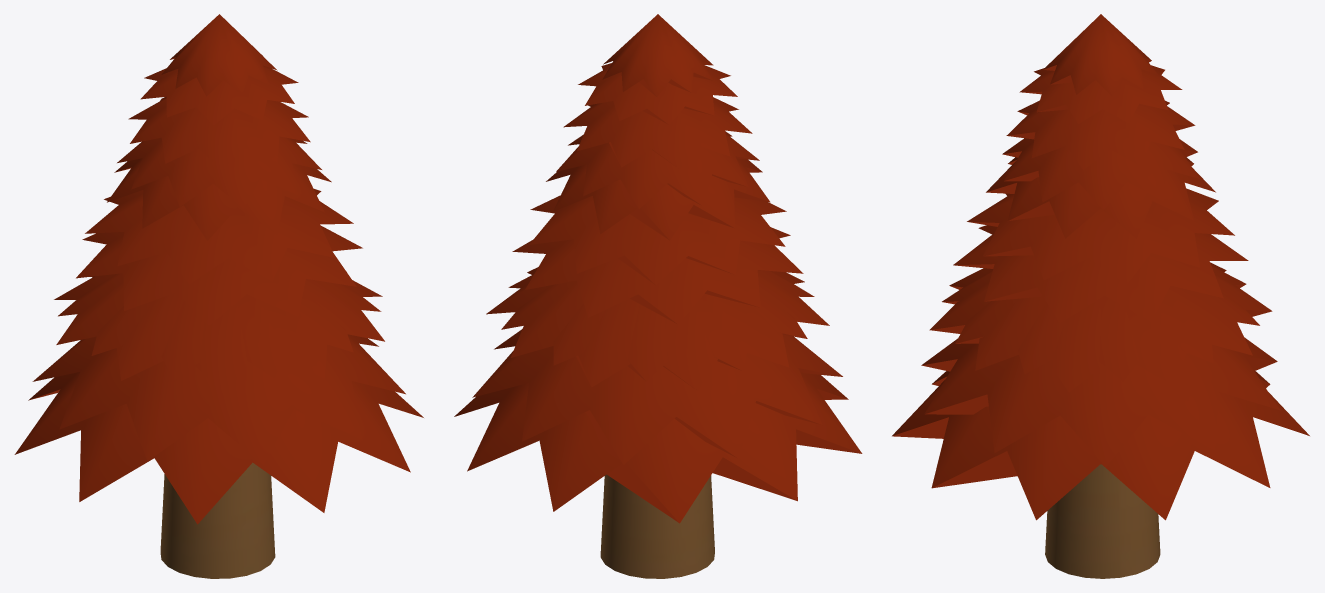
File: red_tree2.fbx
The picture shows the model from 3 angles, left to right: view 1: azimuth 30°, elevation 25°; view 2: azimuth 150°, elevation 25°; view 3: azimuth 270°, elevation 25°; orthographic projection.
Parts seen in each view (by area): view 1: polySurface141, polySurface151; view 2: polySurface141, polySurface151; view 3: polySurface141, polySurface151.
Part boxes in pixels (x1,y1,x2,y2): polySurface141: (14, 14, 423, 524); polySurface151: (160, 462, 275, 578); polySurface141: (454, 14, 862, 523); polySurface151: (600, 474, 714, 578); polySurface141: (892, 14, 1309, 520); polySurface151: (1045, 464, 1160, 578).
Size of the model in its own units: 0.7679 by 1.15 by 0.8074.
